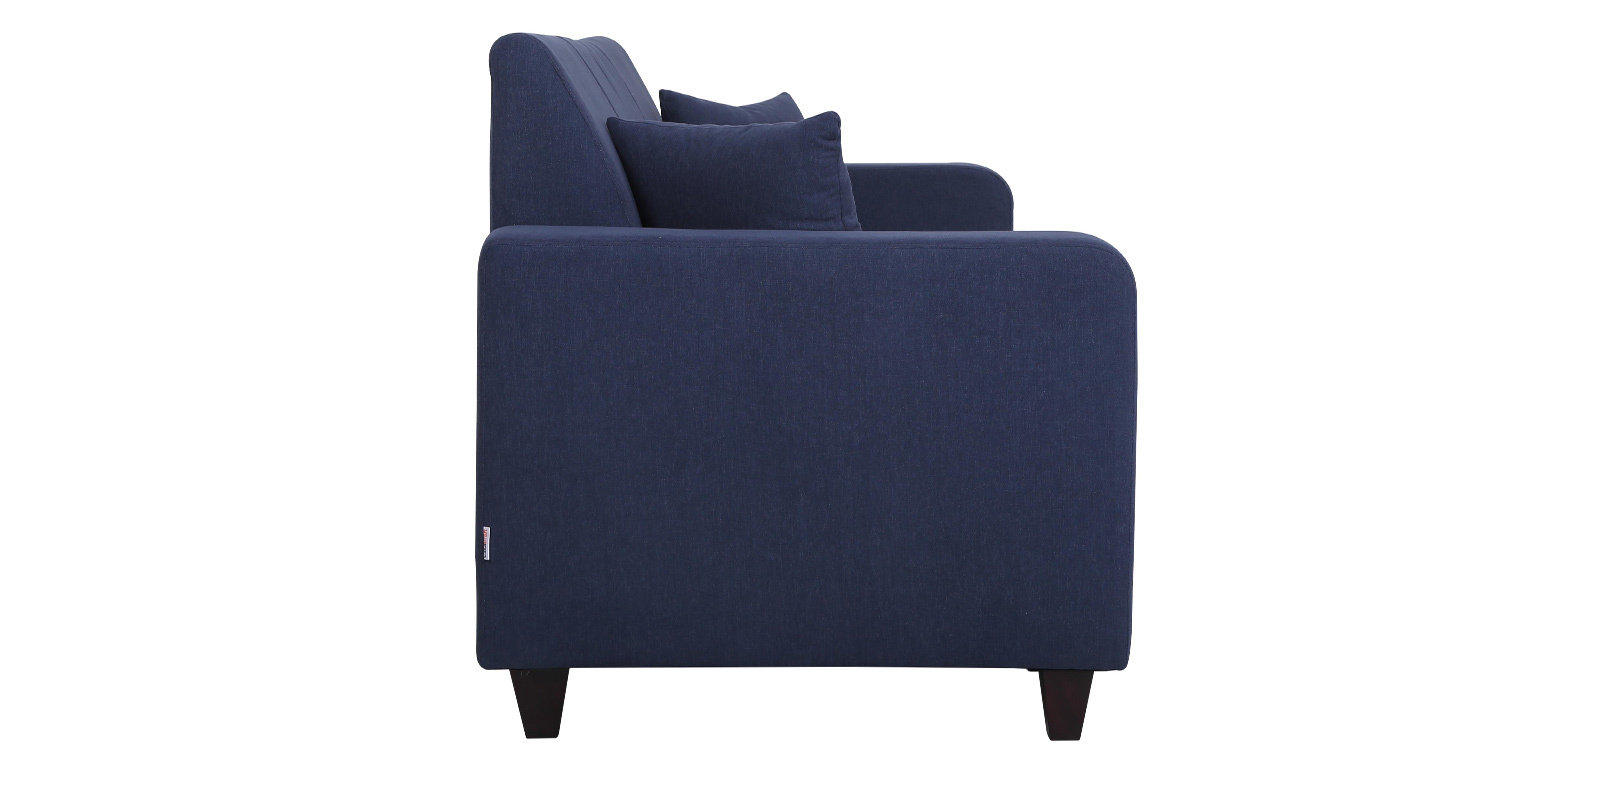Alba Three Seater Sofa in Navy Blue Colour by CasaCraft: (469, 23, 1142, 746)
